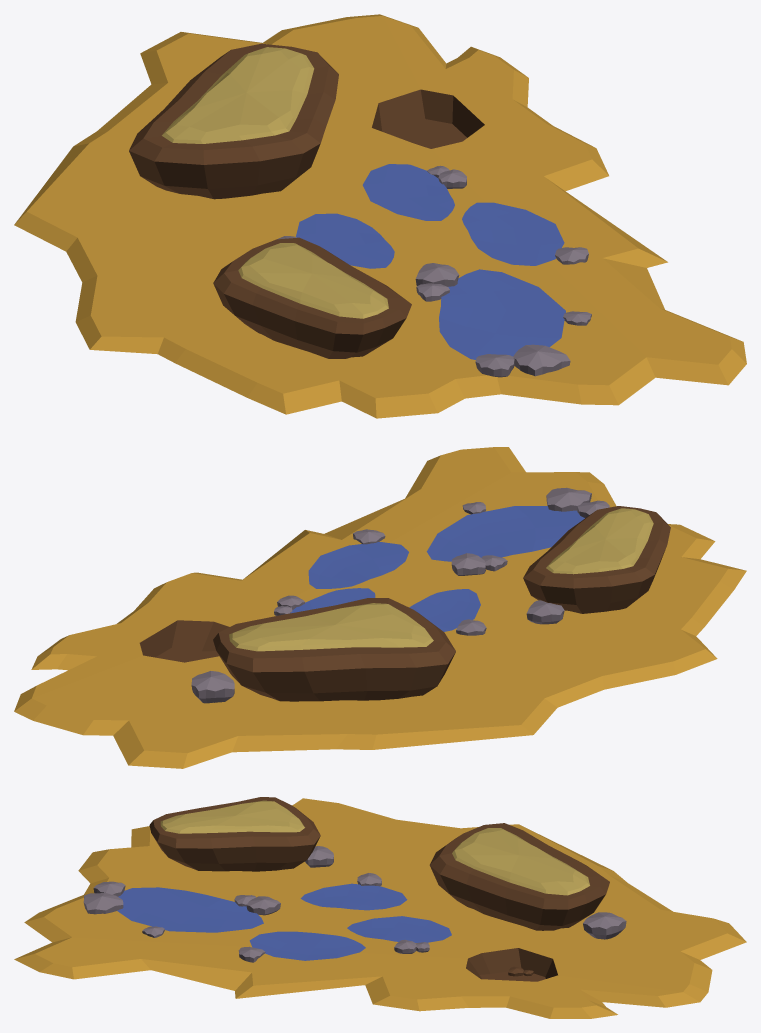
Rendered from ambienteCarpinchoFeo.fbx.
3 renders of one model, top to bottom at view 1: azimuth 30°, elevation 25°; view 2: azimuth 150°, elevation 25°; view 3: azimuth 270°, elevation 25°, orthographic. The views are drawn at different scales.
Visible parts, largest first — view 1: Plane.013, Circle.003, Circle, Plane.004, Plane.001, Plane.002, Plane.005; view 2: Plane.013, Circle.003, Circle, Plane.004, Plane.001, Plane.005, Plane.002; view 3: Plane.013, Circle.003, Circle, Plane.004, Plane.001, Plane.005, Plane.002.
Boxes of the visible parts, box(x1,y1,x2,y2) form: Plane.013: box(14, 14, 746, 418); Circle.003: box(129, 43, 591, 377); Circle: box(213, 165, 588, 358); Plane.004: box(439, 269, 565, 359); Plane.001: box(462, 202, 564, 265); Plane.002: box(362, 164, 454, 220); Plane.005: box(296, 213, 394, 268); Plane.013: box(14, 447, 746, 768); Circle.003: box(191, 487, 609, 703); Circle: box(274, 506, 670, 635); Plane.004: box(426, 506, 584, 561); Plane.001: box(308, 542, 408, 588); Plane.005: box(409, 589, 480, 631); Plane.002: box(290, 588, 375, 613); Plane.013: box(14, 798, 746, 1018); Circle.003: box(83, 823, 626, 976); Circle: box(149, 797, 429, 962); Plane.004: box(117, 887, 263, 932); Plane.001: box(249, 931, 365, 960); Plane.005: box(300, 883, 407, 910); Plane.002: box(347, 916, 451, 942).
Bounding box in the file's own units: 71.33 × 10.89 × 101.
